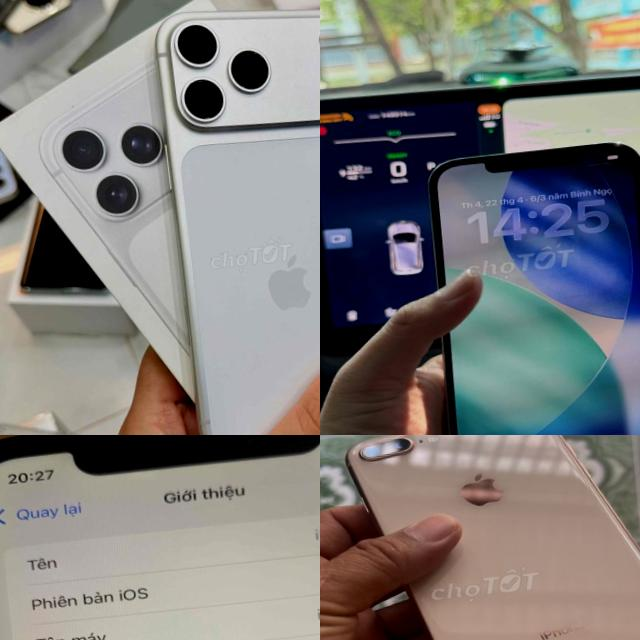gen_12_13: (414, 125, 640, 435)
gen_17: (141, 0, 320, 435)
gen_7_8: (334, 435, 640, 640)
gen_x_xs: (0, 435, 320, 640)
